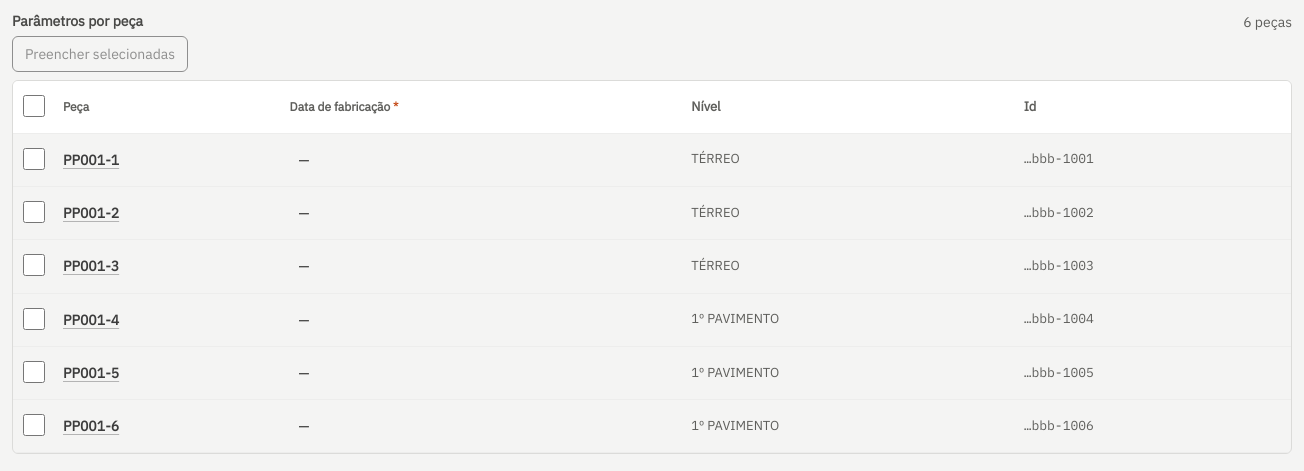
Test: Editor de data por peça (docs/bugs/data-por-peca.md) › digitar não grava a cada tecla: os valores intermediários (0002, 0020, 0202) só ficam no campo
This screenshot has width=1304, height=471.
Click the button "—" in the row of "…bbb-1003": coordinates (304, 266) [290,246,679,286]
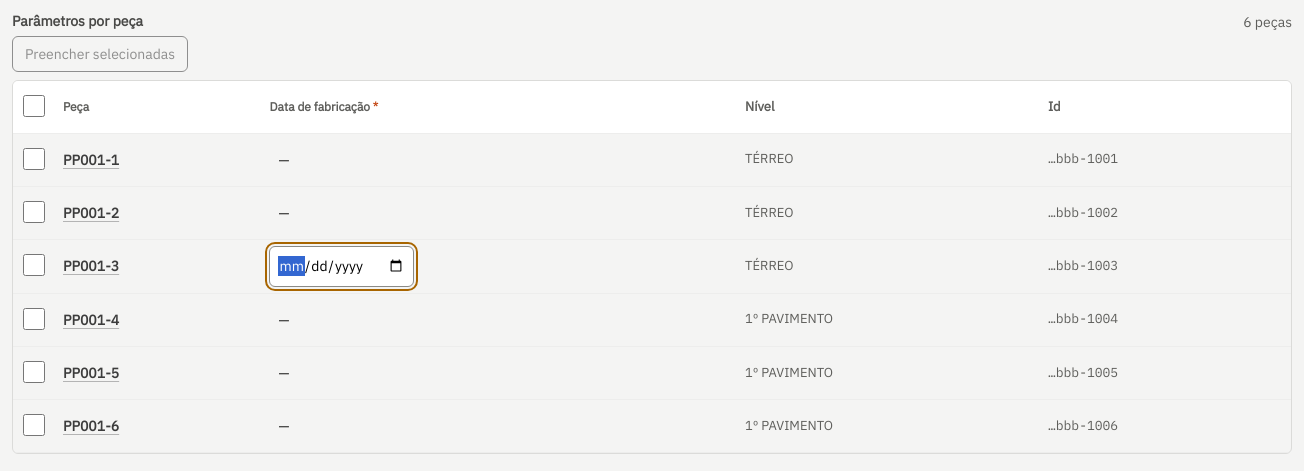
In the date field named "Data de fabricação de PP001-3": coordinates (342, 266) [270,246,414,287], type "0002-05-05"
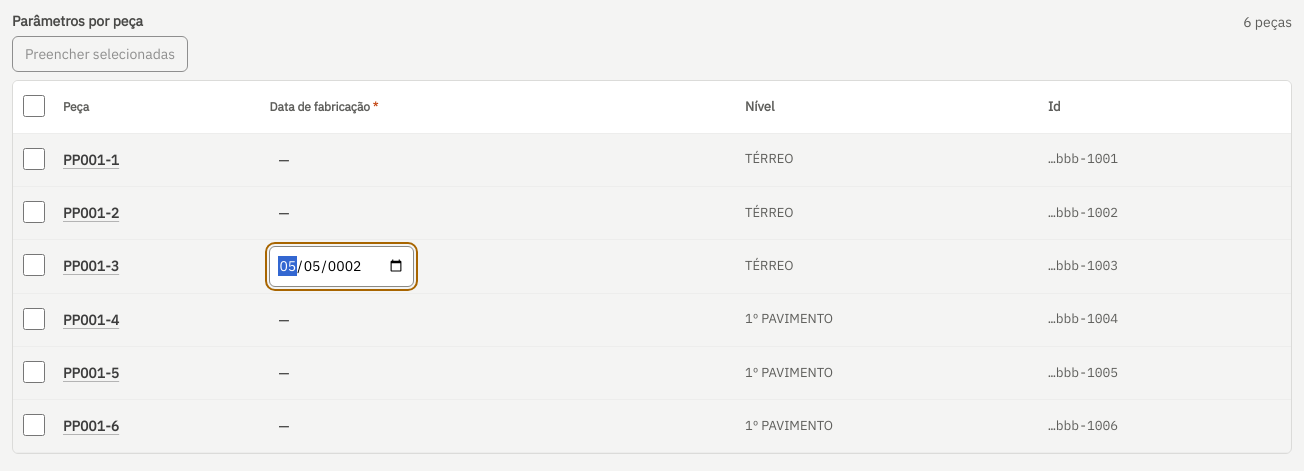
In the date field named "Data de fabricação de PP001-3": coordinates (342, 266) [270,246,414,287], type "0020-05-05"
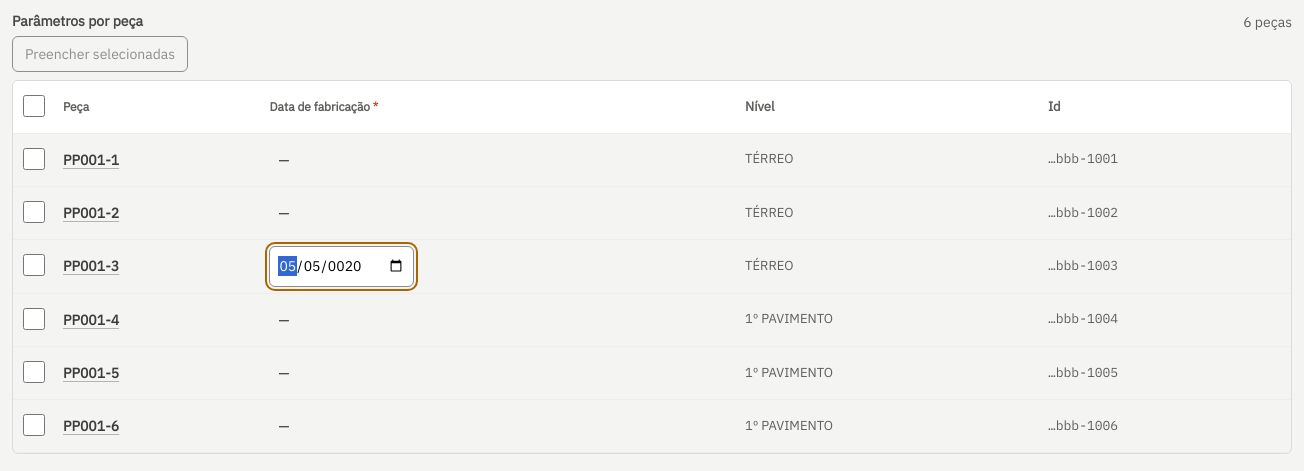
In the date field named "Data de fabricação de PP001-3": coordinates (342, 266) [270,246,414,287], type "0202-05-05"
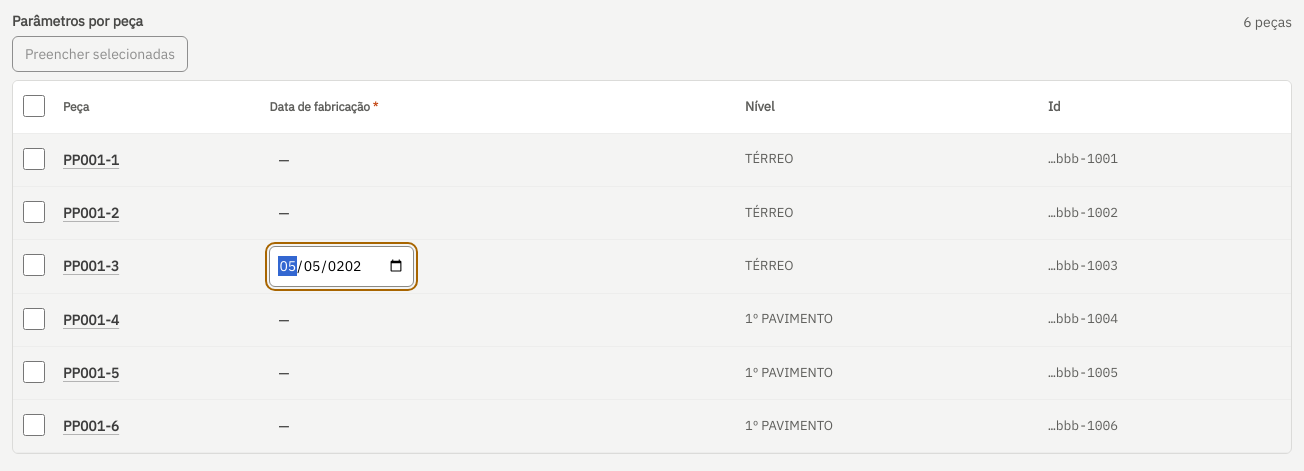
In the date field named "Data de fabricação de PP001-3": coordinates (342, 266) [270,246,414,287], type "2026-05-05"
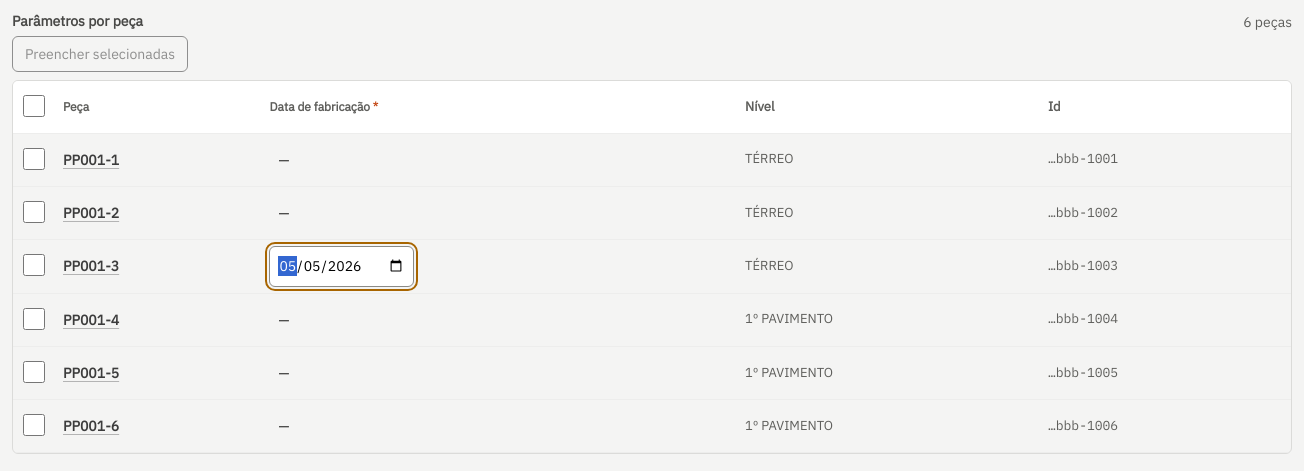
Press Enter
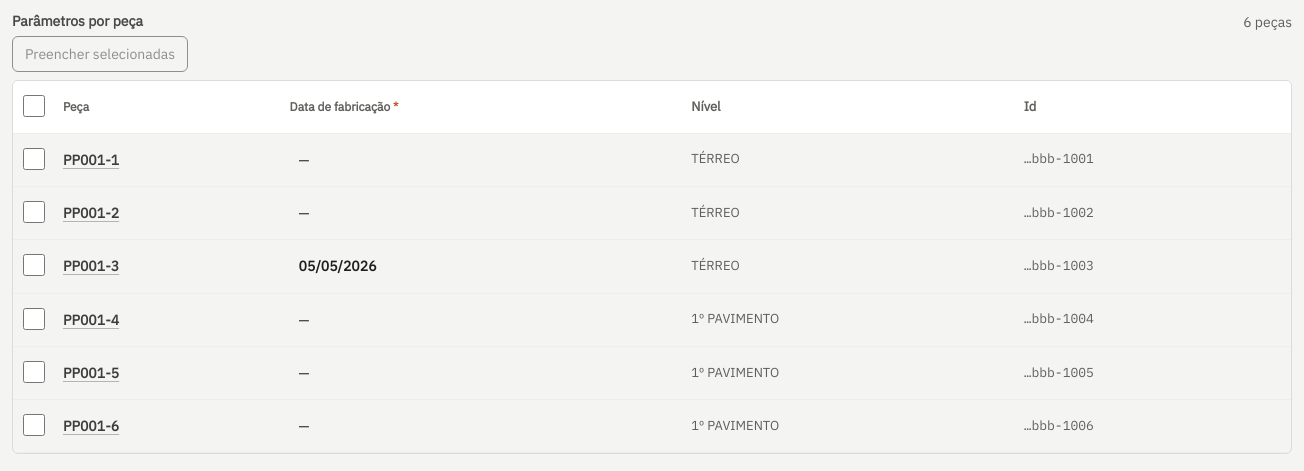
Result: the button named "Data de fabricação de PP001-3: 05/05/2026" is shown at [290,246,679,286]
